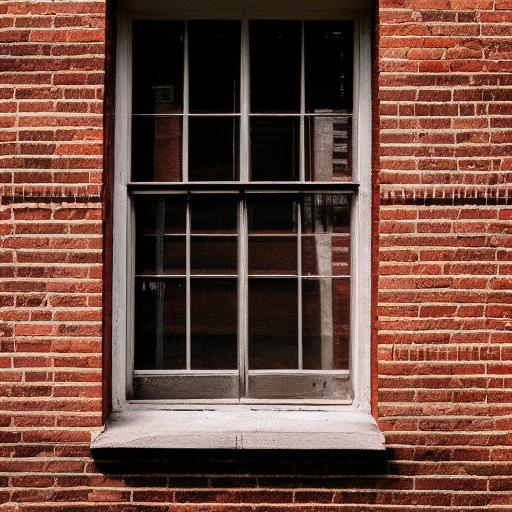Window: (90, 1, 390, 458)
